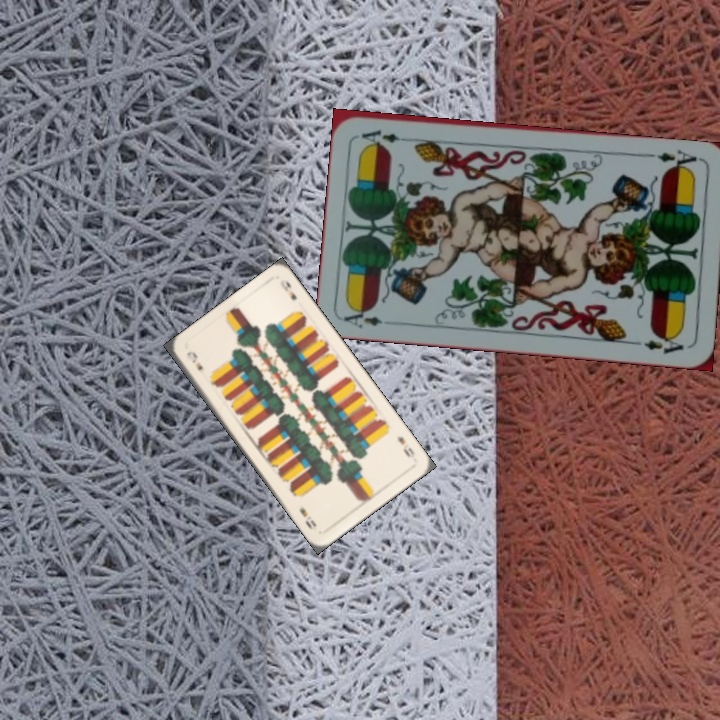E9: (393, 432, 417, 460), (182, 347, 206, 373)
EA: (645, 146, 704, 174), (340, 303, 385, 331)
